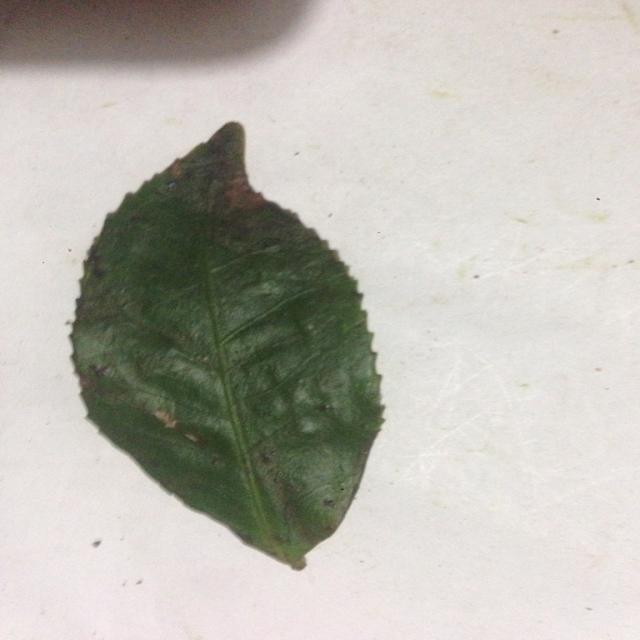Red Leaf Spot: (56, 114, 408, 579)
